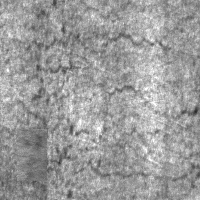crazing: (24, 123, 198, 187), (27, 27, 198, 76), (20, 85, 197, 120)
rolled-in_scale: (17, 129, 47, 181)
